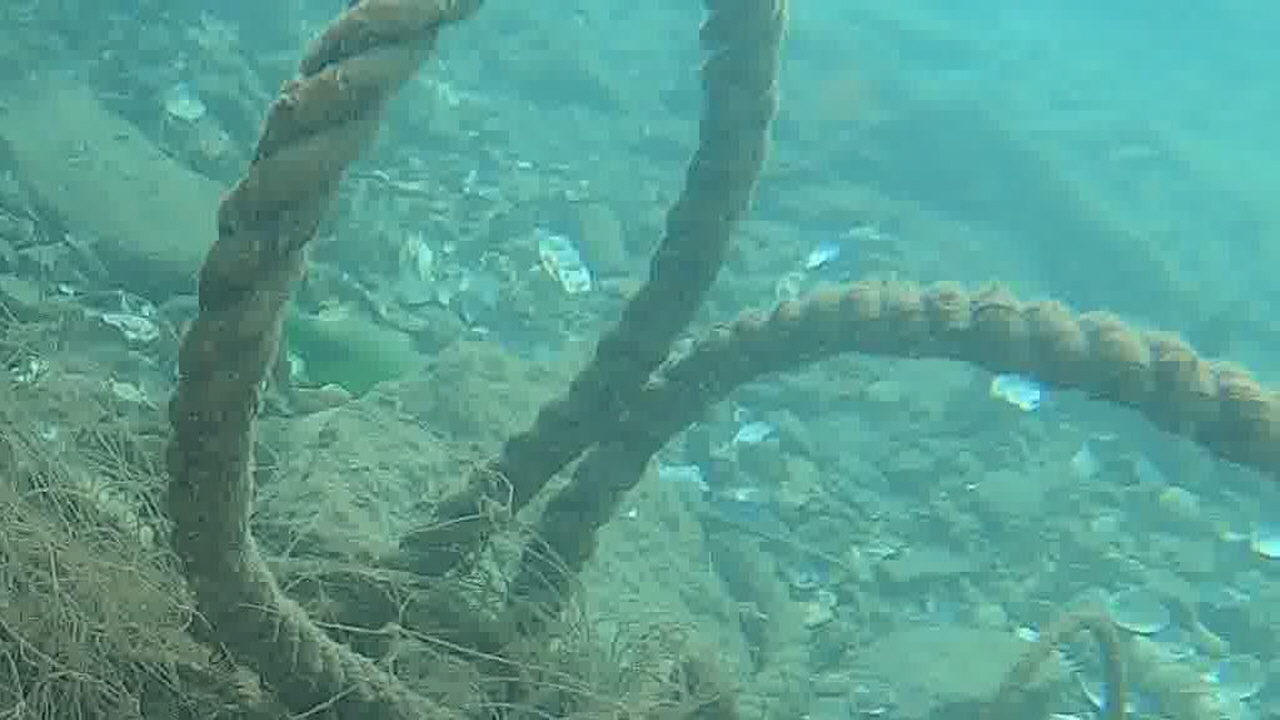bundle of ropes: (163, 2, 1279, 720)
